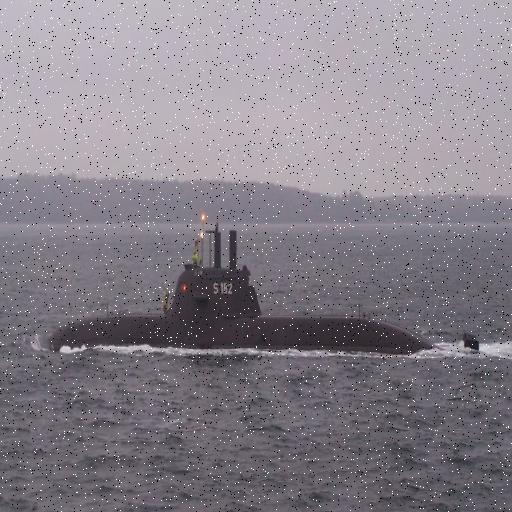submarine: (44, 215, 486, 354)
